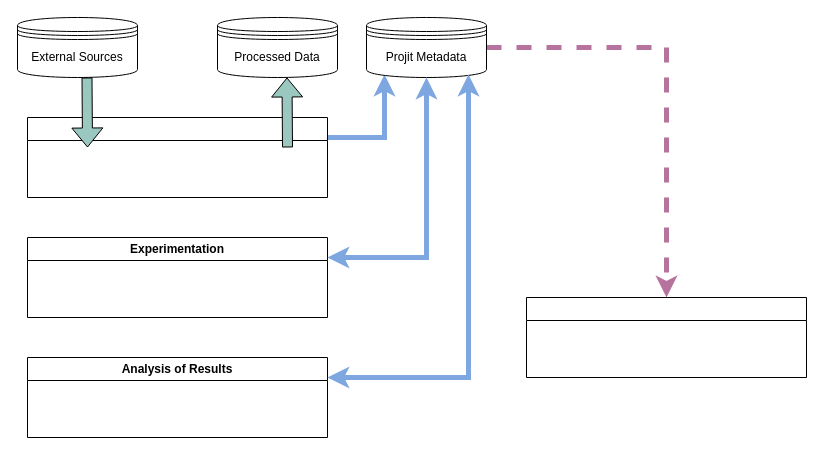
The diagram is 824 pixels wide and 455 high, and some of its shapes have lost their labels. The centre of each missing label's shape, as x and y in pixels:
Data Prepation: the point at 177,157
Meta-Analysis: the point at 666,337
